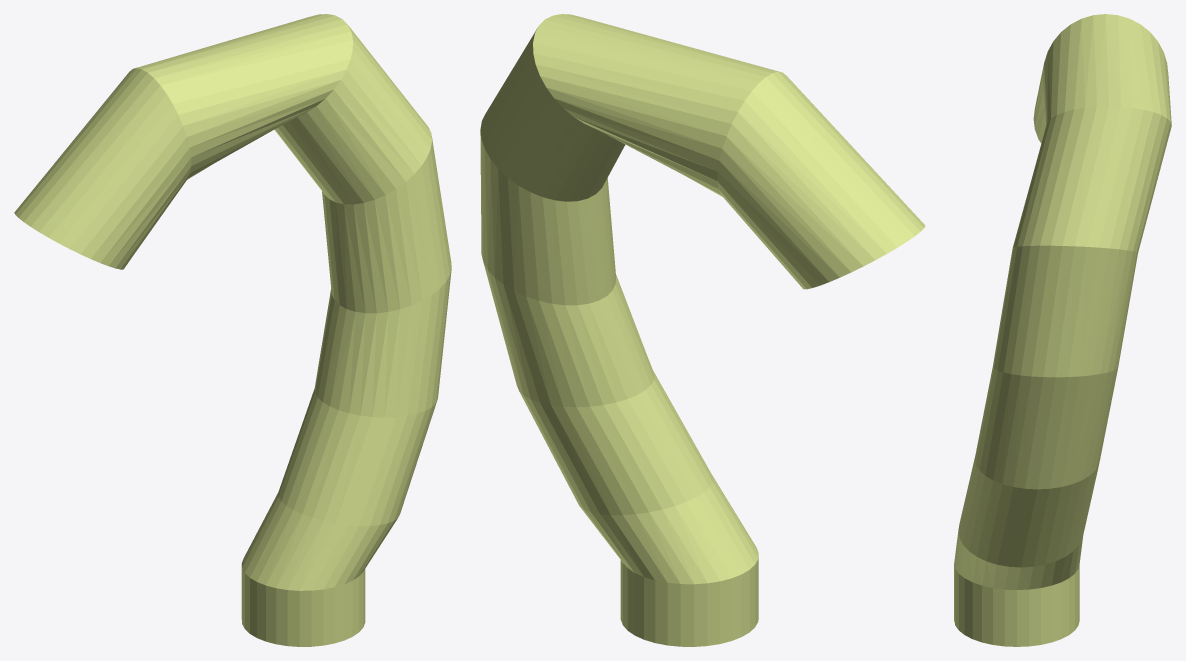
The model's file is fuse.fbx.
3 renders of one model, left to right at view 1: azimuth 30°, elevation 25°; view 2: azimuth 150°, elevation 25°; view 3: azimuth 270°, elevation 25°, orthographic. The views are drawn at different scales.
Parts seen in each view (by area): view 1: Cylinder; view 2: Cylinder; view 3: Cylinder.
Boxes of the visible parts, x1,y1,x2,y2 form: Cylinder: (14, 14, 451, 646); Cylinder: (480, 14, 925, 646); Cylinder: (954, 14, 1171, 646).
Bounding box in the file's own units: 745 × 977 × 347.
